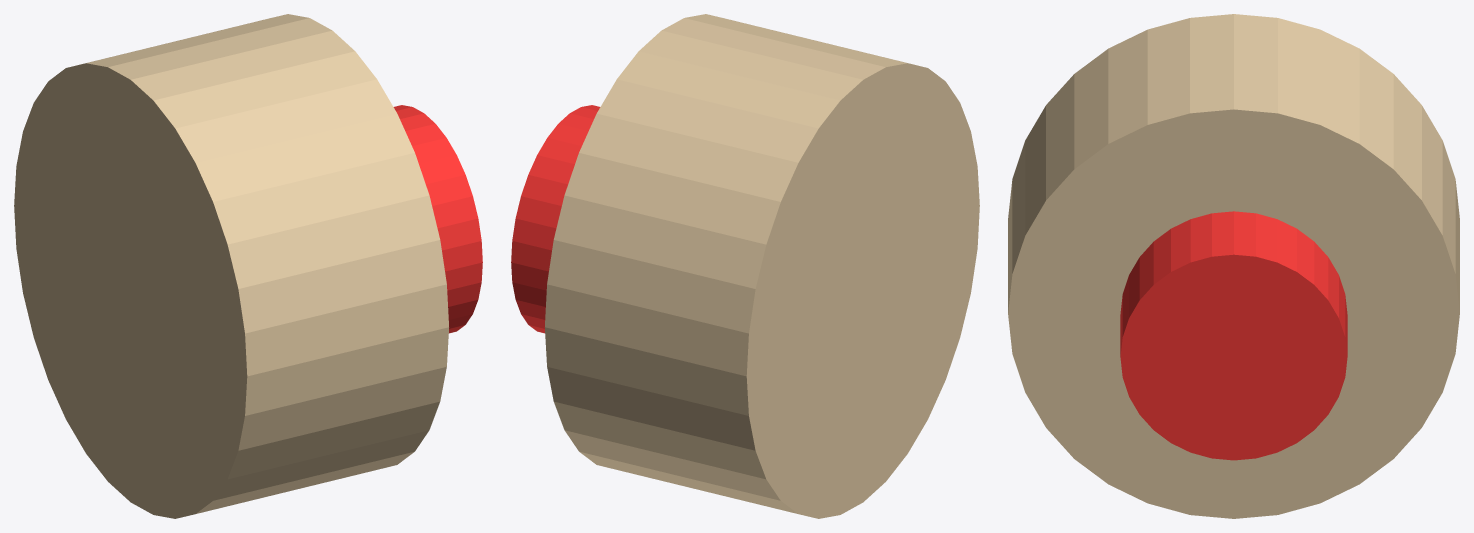
File: button.fbx
3 views of the same model, side by side, from view 1: azimuth 30°, elevation 25°; view 2: azimuth 150°, elevation 25°; view 3: azimuth 270°, elevation 25° (orthographic). The views are drawn at different scales.
Visible parts, largest first — view 1: Cylinder, Cylinder.001; view 2: Cylinder, Cylinder.001; view 3: Cylinder, Cylinder.001.
Part boxes in pixels (x1,y1,x2,y2): Cylinder: [14, 14, 448, 518]; Cylinder.001: [393, 105, 482, 333]; Cylinder: [545, 14, 979, 518]; Cylinder.001: [511, 105, 600, 333]; Cylinder: [1008, 14, 1459, 518]; Cylinder.001: [1120, 211, 1347, 460].
Bounding box in the file's own units: 29.08 × 40 × 40.
